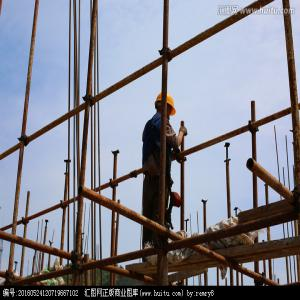yellow: (154, 90, 176, 120)
